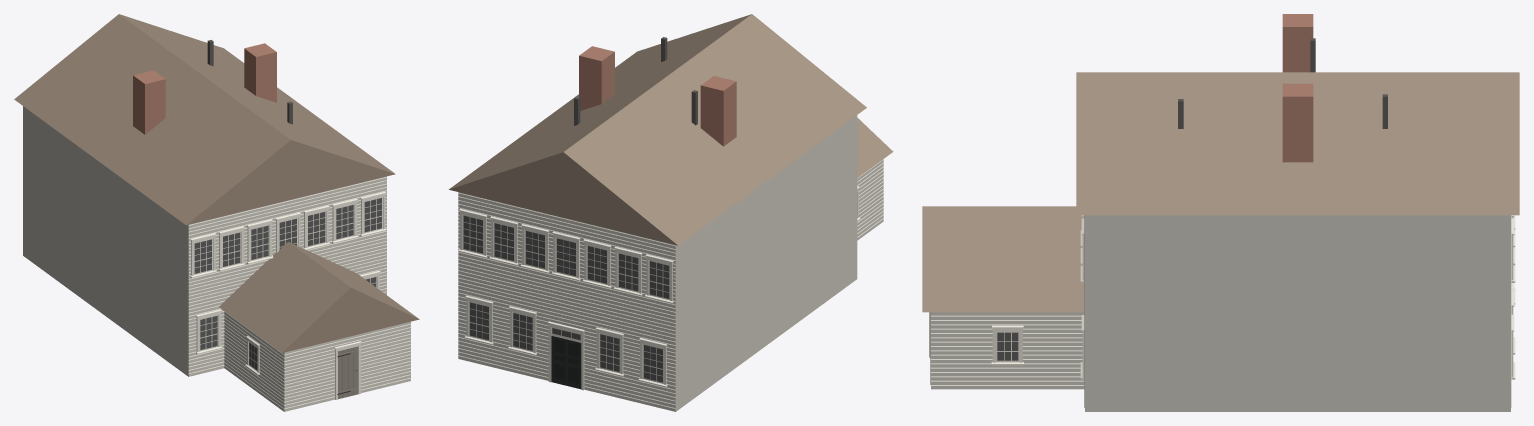
File: recon_1835_core_h3_004__inferred_1835.glb
The picture shows the model from 3 angles, left to right: view 1: azimuth 30°, elevation 25°; view 2: azimuth 150°, elevation 25°; view 3: azimuth 270°, elevation 25°; orthographic projection. The views are drawn at different scales.
Visible parts, largest first — view 1: recon_1835_core_h3_004__inferred_1835; view 2: recon_1835_core_h3_004__inferred_1835; view 3: recon_1835_core_h3_004__inferred_1835.
Part boxes in pixels (box(x1,y1,x2,y2)): recon_1835_core_h3_004__inferred_1835: box(14, 14, 419, 411); recon_1835_core_h3_004__inferred_1835: box(449, 14, 893, 411); recon_1835_core_h3_004__inferred_1835: box(922, 14, 1519, 411).
Size of the model in its own units: 9.11 by 9.48 by 17.45.
